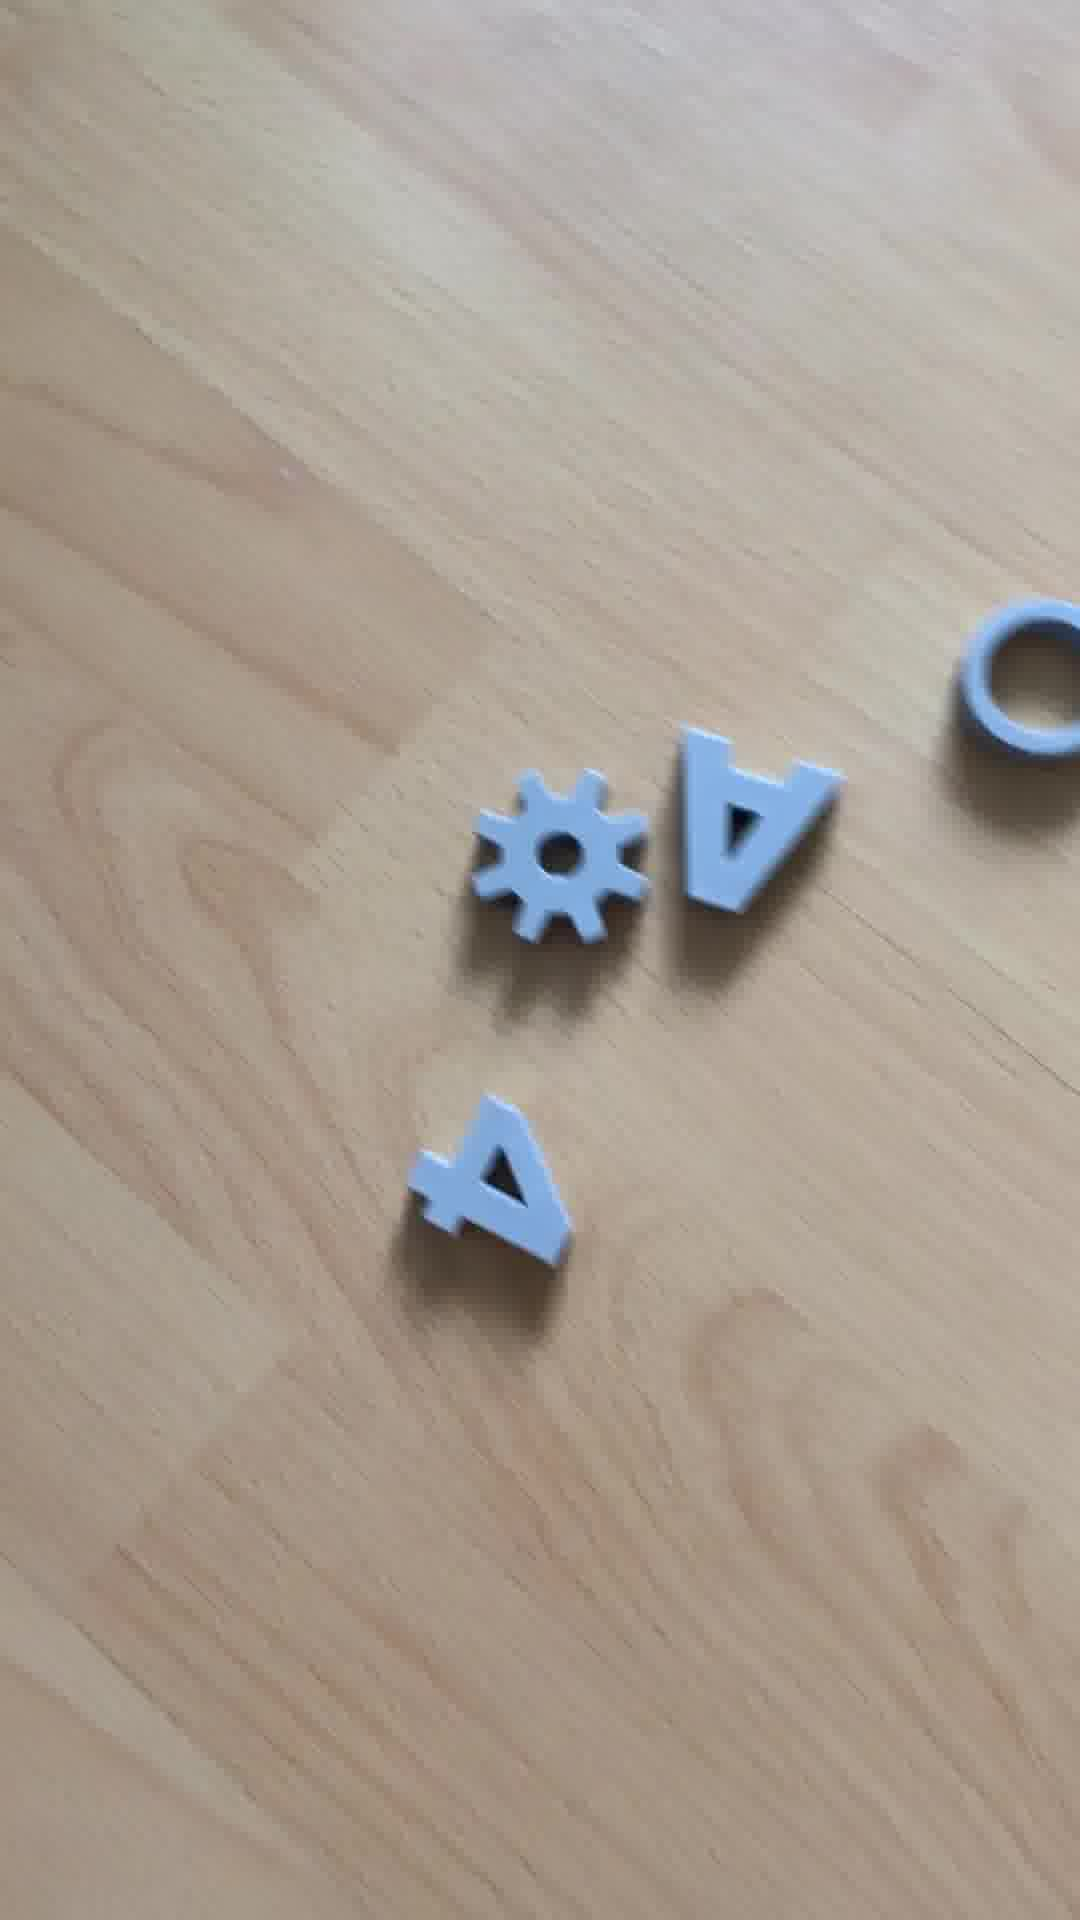Gray A-letter: (659, 723, 851, 924)
Gray four: (392, 1098, 585, 1283)
Gray gear: (464, 764, 649, 963)
Gray ring: (945, 601, 1080, 758)
